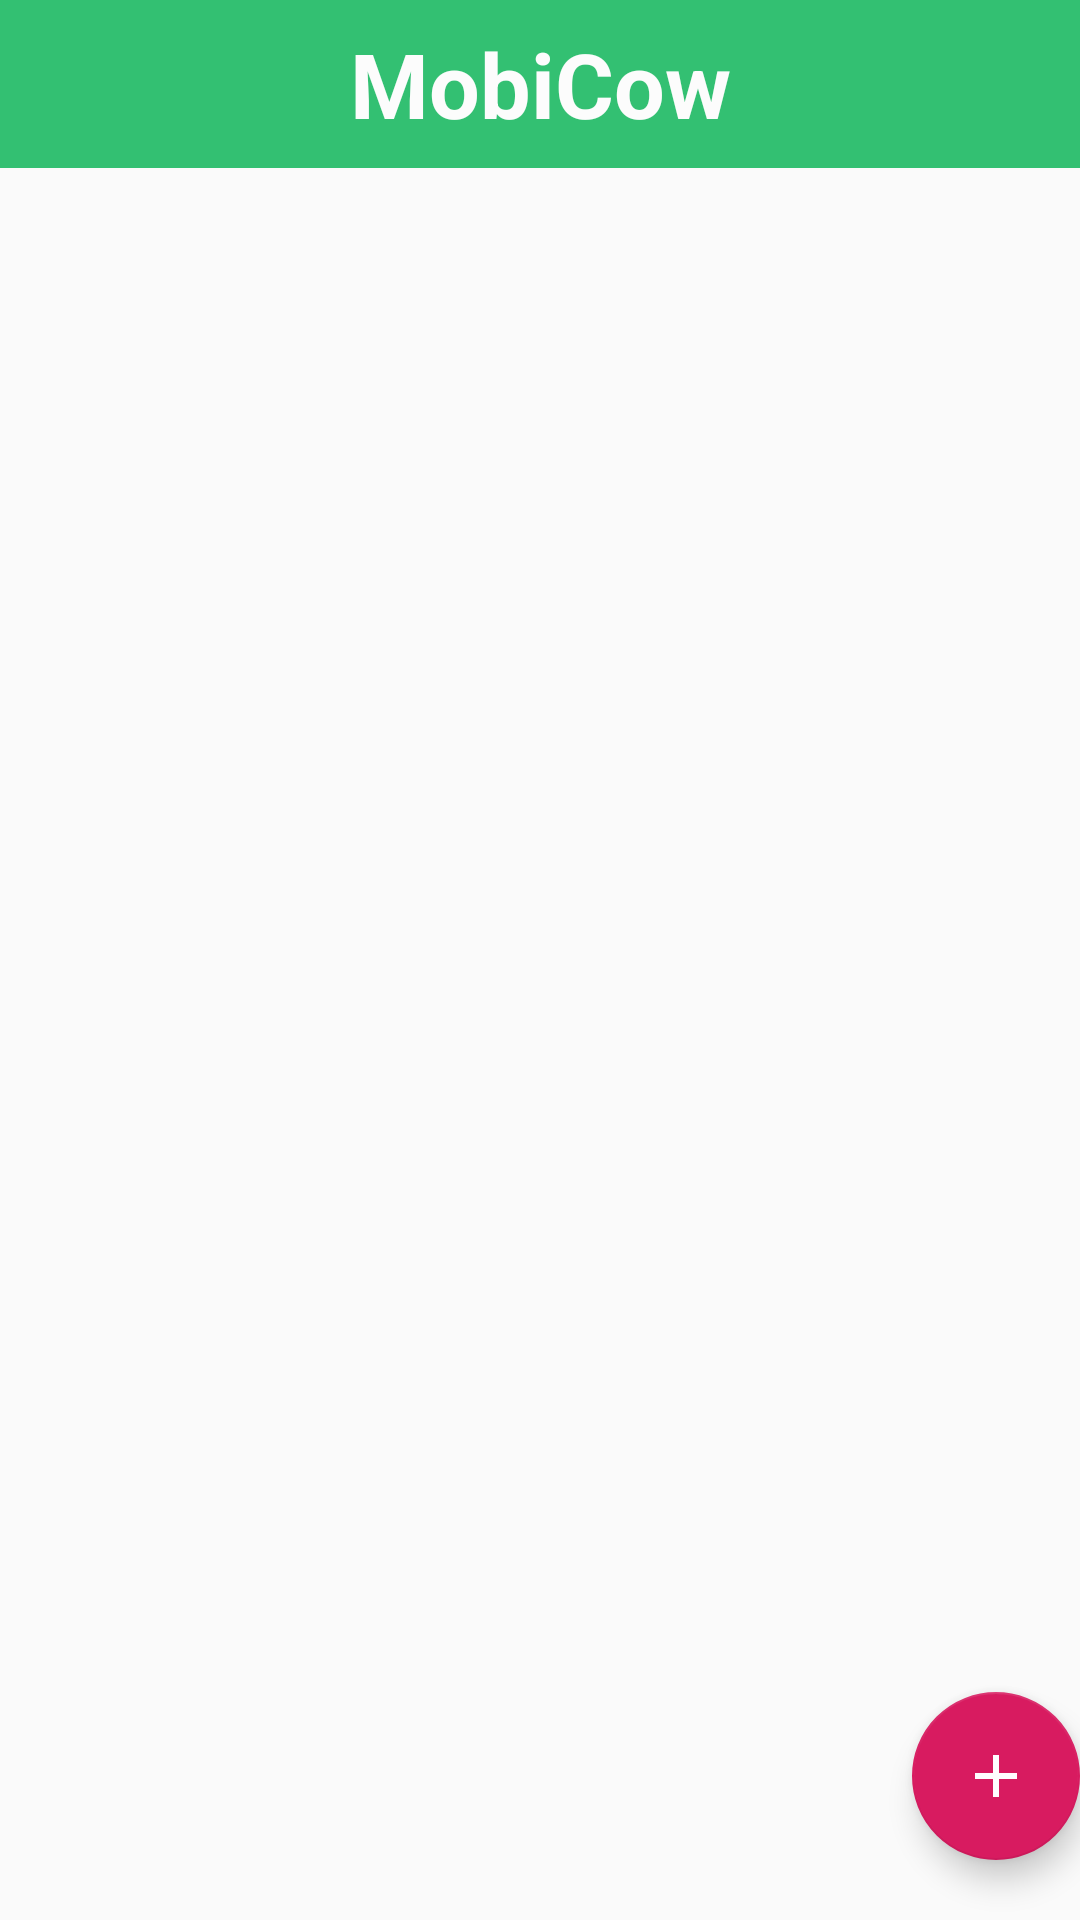

Icons on this 1080px x 1920px Android screen, each with the point to tap as [x,y]:
add: [996,1776]
